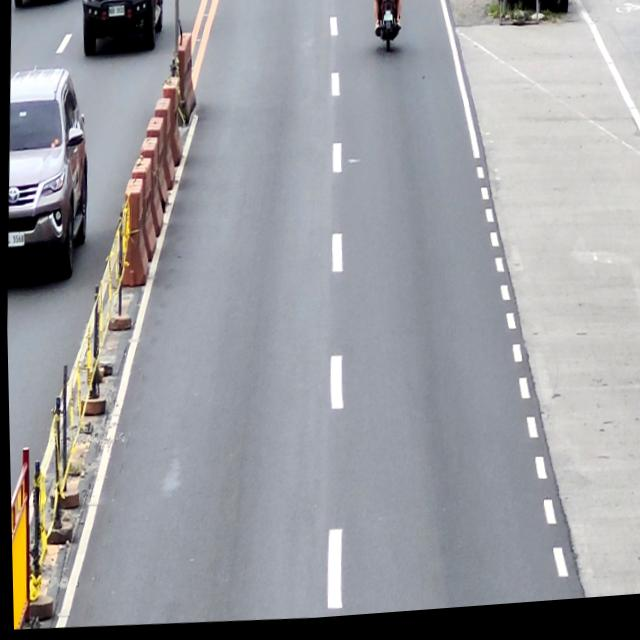License-Plate: (383, 18, 392, 27)
Motorcycle: (374, 0, 403, 57)
